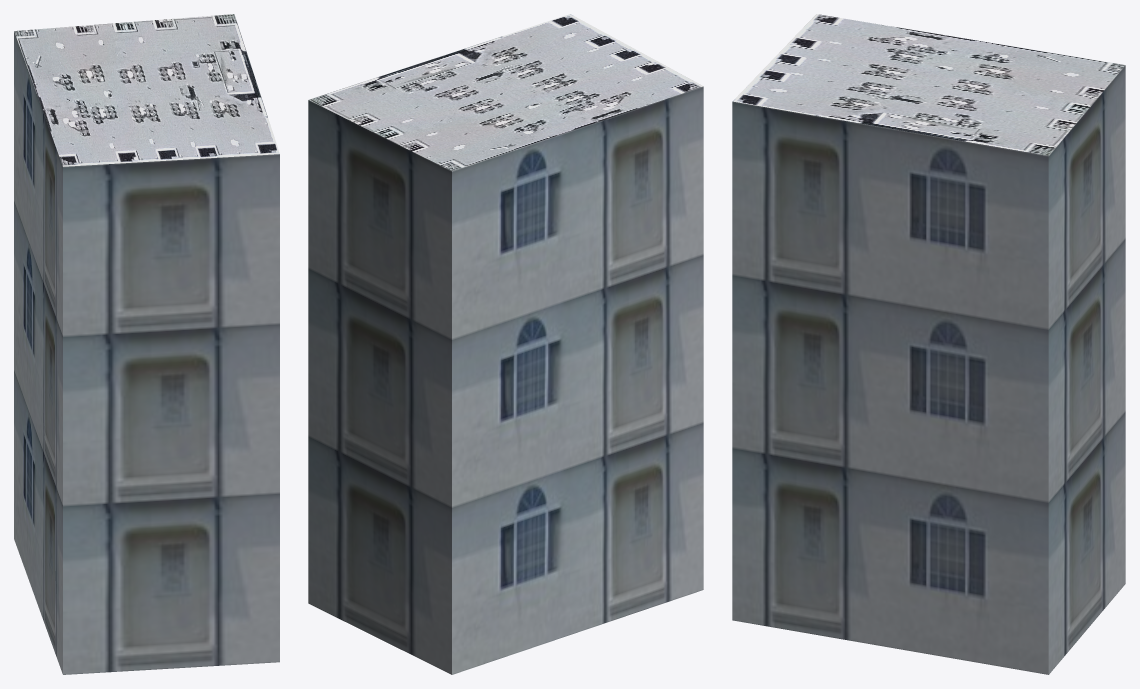
The model's file is ResTex__3984.fbx.
The picture shows the model from 3 angles, left to right: view 1: azimuth 30°, elevation 25°; view 2: azimuth 150°, elevation 25°; view 3: azimuth 270°, elevation 25°; orthographic projection. The views are drawn at different scales.
Parts seen in each view (by area): view 1: CityEngineMaterial_17_m, CityEngineMaterial_2_m; view 2: CityEngineMaterial_17_m, CityEngineMaterial_2_m; view 3: CityEngineMaterial_17_m, CityEngineMaterial_2_m.
Boxes of the visible parts, box(x1,y1,x2,y2) form: CityEngineMaterial_17_m: box(14, 31, 279, 674); CityEngineMaterial_2_m: box(14, 14, 279, 166); CityEngineMaterial_17_m: box(308, 86, 703, 674); CityEngineMaterial_2_m: box(309, 14, 703, 171); CityEngineMaterial_17_m: box(732, 65, 1125, 674); CityEngineMaterial_2_m: box(732, 14, 1125, 155).
Size of the model in its own units: 5.29 by 9 by 6.18.
Materials: 2 (2 with a texture image).
